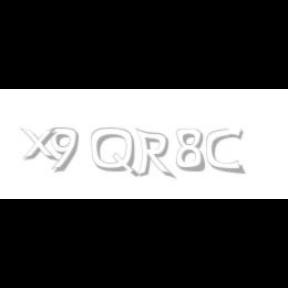8: (176, 128, 206, 172)
9: (50, 128, 78, 172)
C: (206, 128, 244, 174)
Q: (91, 128, 137, 178)
R: (135, 128, 173, 180)
x: (20, 128, 62, 162)
